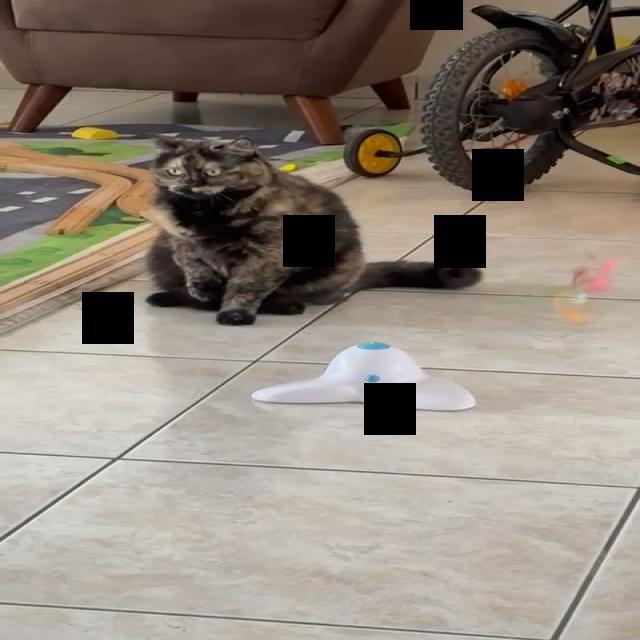authorized: (140, 134, 483, 325)
